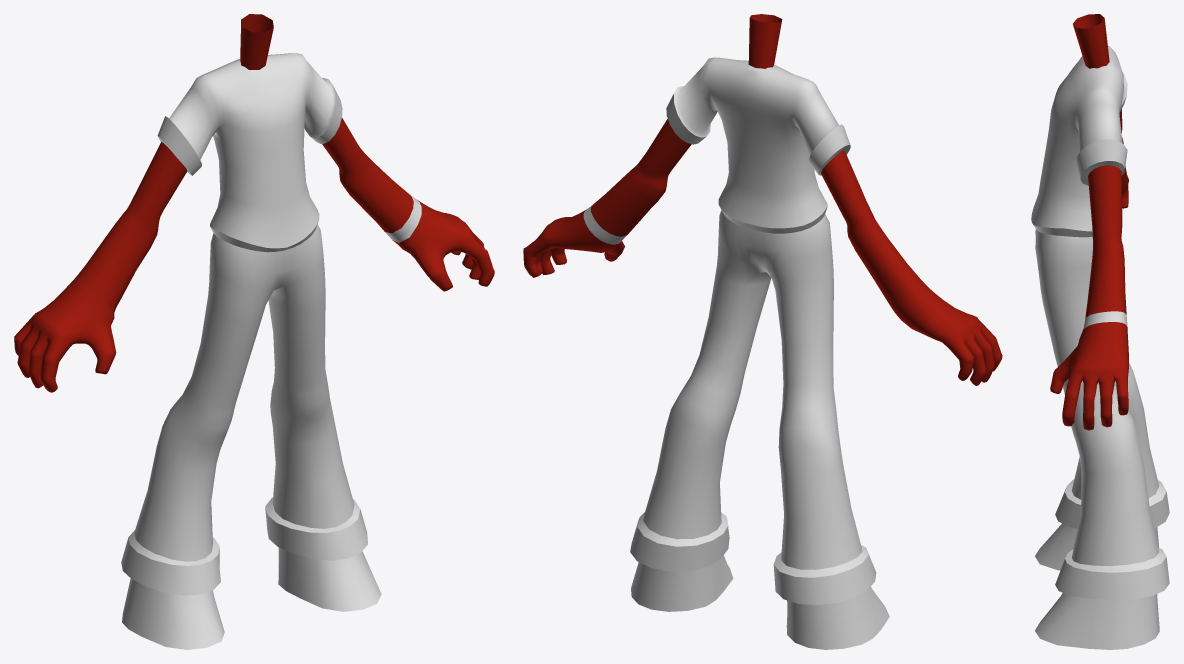
The model's file is SM_PNJ_Outfit_01.fbx.
3 renders of one model, left to right at view 1: azimuth 30°, elevation 25°; view 2: azimuth 150°, elevation 25°; view 3: azimuth 270°, elevation 25°, orthographic. The views are drawn at different scales.
Parts seen in each view (by area): view 1: SM_PNJ_Outfit_01; view 2: SM_PNJ_Outfit_01; view 3: SM_PNJ_Outfit_01.
Boxes of the visible parts, left/top/right/bottom form: SM_PNJ_Outfit_01: left=14, top=14, right=494, bottom=649; SM_PNJ_Outfit_01: left=523, top=14, right=1002, bottom=649; SM_PNJ_Outfit_01: left=1031, top=14, right=1169, bottom=649.
Size of the model in its own units: 49.39 by 60.38 by 13.15.
